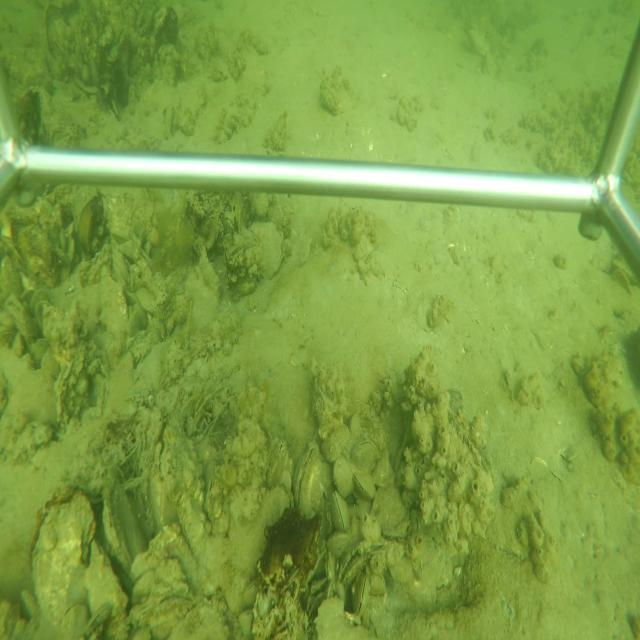Oyster-Closed: (131, 587, 194, 637), (294, 443, 331, 518), (53, 341, 86, 425), (102, 495, 133, 568), (250, 220, 286, 280), (175, 491, 207, 557), (83, 601, 111, 639), (331, 489, 351, 532), (356, 570, 370, 617), (354, 472, 376, 500)
Oyster-Indeterminate: (30, 492, 96, 629), (89, 542, 129, 613), (98, 261, 130, 335)
Oyster-Open: (338, 540, 386, 584)
